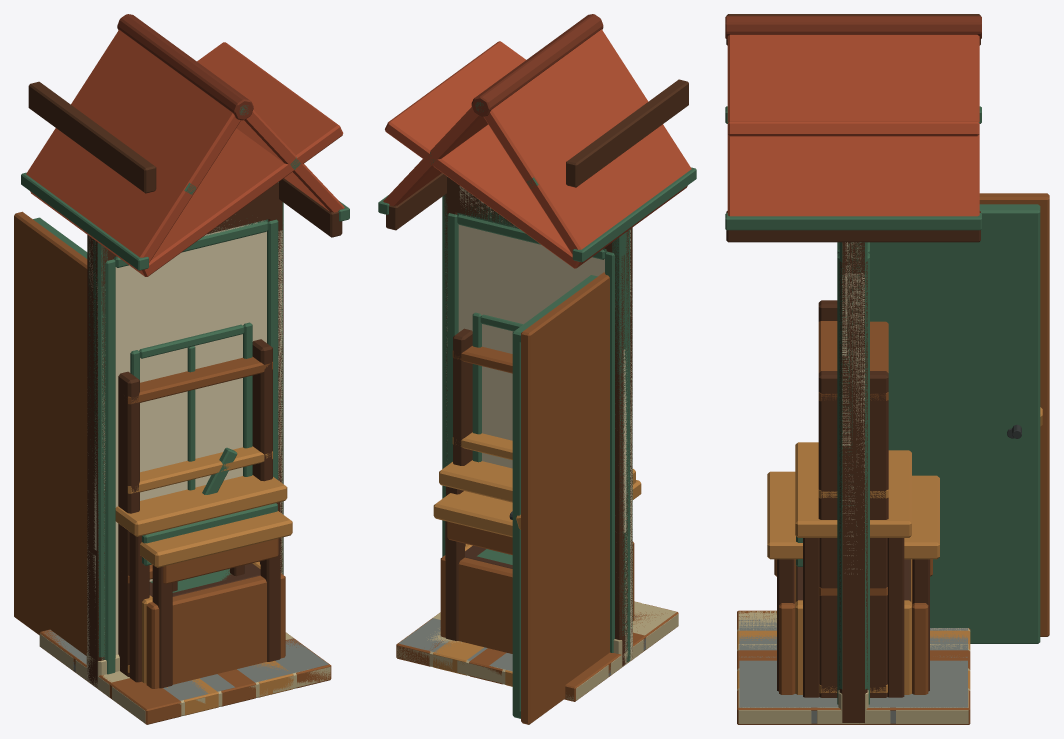
File: GardenStructureKitV1.glb
3 views of the same model, side by side, from view 1: azimuth 30°, elevation 25°; view 2: azimuth 150°, elevation 25°; view 3: azimuth 270°, elevation 25° (orthographic). The views are drawn at different scales.
Parts seen in each view (by area): view 1: GardenStructureKitV1_DoorTimberWideOpen, GardenStructureKitV1_RoofGable, GardenStructureKitV1_WallPlaster, GardenStructureKitV1_RoofShed, GardenStructureKitV1_PropShelf, GardenStructureKitV1_PropPlanter, GardenStructureKitV1_PropTable, GardenStructureKitV1_DoorHouseOpen, GardenStructureKitV1_PropWorkbench, GardenStructureKitV1_WallTimber, GardenStructureKitV1_WindowHouseFrame, GardenStructureKitV1_FloorTimber (+5 smaller); view 2: GardenStructureKitV1_DoorTimberWideOpen, GardenStructureKitV1_RoofGable, GardenStructureKitV1_RoofShed, GardenStructureKitV1_WallPlaster, GardenStructureKitV1_DoorHouseOpen, GardenStructureKitV1_PropPlanter, GardenStructureKitV1_PropTable, GardenStructureKitV1_DoorGreenhouseOpenFrame, GardenStructureKitV1_PropShelf, GardenStructureKitV1_FloorLimestone, GardenStructureKitV1_FloorTimber, GardenStructureKitV1_WindowHouseFrame (+5 smaller); view 3: GardenStructureKitV1_DoorGreenhouseOpenFrame, GardenStructureKitV1_RoofGable, GardenStructureKitV1_PropShelf, GardenStructureKitV1_WallTimber, GardenStructureKitV1_PropWorkbench, GardenStructureKitV1_RoofShed, GardenStructureKitV1_DoorTimberWideOpen, GardenStructureKitV1_PropTable, GardenStructureKitV1_FloorStone, GardenStructureKitV1_PropPlanter, GardenStructureKitV1_DoorHouseOpen, GardenStructureKitV1_RoofGreenhouseGableFrame (+3 smaller).
Boxes of the visible parts, bbox=[...] form: GardenStructureKitV1_DoorTimberWideOpen: bbox=[14, 187, 283, 687]; GardenStructureKitV1_RoofGable: bbox=[26, 14, 344, 262]; GardenStructureKitV1_WallPlaster: bbox=[86, 182, 283, 676]; GardenStructureKitV1_RoofShed: bbox=[28, 42, 343, 276]; GardenStructureKitV1_PropShelf: bbox=[118, 339, 272, 676]; GardenStructureKitV1_PropPlanter: bbox=[142, 561, 285, 688]; GardenStructureKitV1_PropTable: bbox=[140, 511, 292, 688]; GardenStructureKitV1_DoorHouseOpen: bbox=[87, 219, 282, 681]; GardenStructureKitV1_PropWorkbench: bbox=[115, 475, 287, 682]; GardenStructureKitV1_WallTimber: bbox=[86, 182, 282, 687]; GardenStructureKitV1_WindowHouseFrame: bbox=[89, 237, 266, 654]; GardenStructureKitV1_FloorTimber: bbox=[39, 629, 331, 724]; GardenStructureKitV1_DoorTimberWideOpen: bbox=[455, 182, 632, 724]; GardenStructureKitV1_RoofGable: bbox=[383, 14, 691, 254]; GardenStructureKitV1_RoofShed: bbox=[385, 41, 688, 268]; GardenStructureKitV1_WallPlaster: bbox=[442, 176, 632, 654]; GardenStructureKitV1_DoorHouseOpen: bbox=[446, 186, 632, 663]; GardenStructureKitV1_PropPlanter: bbox=[440, 541, 634, 653]; GardenStructureKitV1_PropTable: bbox=[433, 480, 641, 640]; GardenStructureKitV1_DoorGreenhouseOpenFrame: bbox=[446, 200, 606, 718]; GardenStructureKitV1_PropShelf: bbox=[452, 328, 512, 465]; GardenStructureKitV1_FloorLimestone: bbox=[397, 601, 678, 700]; GardenStructureKitV1_FloorTimber: bbox=[396, 601, 678, 701]; GardenStructureKitV1_WindowHouseFrame: bbox=[459, 230, 630, 573]; GardenStructureKitV1_DoorGreenhouseOpenFrame: bbox=[870, 204, 1040, 643]; GardenStructureKitV1_RoofGable: bbox=[725, 15, 981, 216]; GardenStructureKitV1_PropShelf: bbox=[818, 300, 888, 697]; GardenStructureKitV1_WallTimber: bbox=[838, 242, 868, 722]; GardenStructureKitV1_PropWorkbench: bbox=[795, 442, 911, 697]; GardenStructureKitV1_RoofShed: bbox=[726, 14, 980, 242]; GardenStructureKitV1_DoorTimberWideOpen: bbox=[839, 193, 1049, 722]; GardenStructureKitV1_PropTable: bbox=[767, 471, 939, 691]; GardenStructureKitV1_FloorStone: bbox=[739, 613, 967, 723]; GardenStructureKitV1_PropPlanter: bbox=[779, 559, 928, 694]; GardenStructureKitV1_DoorHouseOpen: bbox=[837, 242, 1013, 704]; GardenStructureKitV1_RoofGreenhouseGableFrame: bbox=[725, 106, 981, 230].
Bounding box in the file's own units: 1.14 × 3.12 × 1.39.
